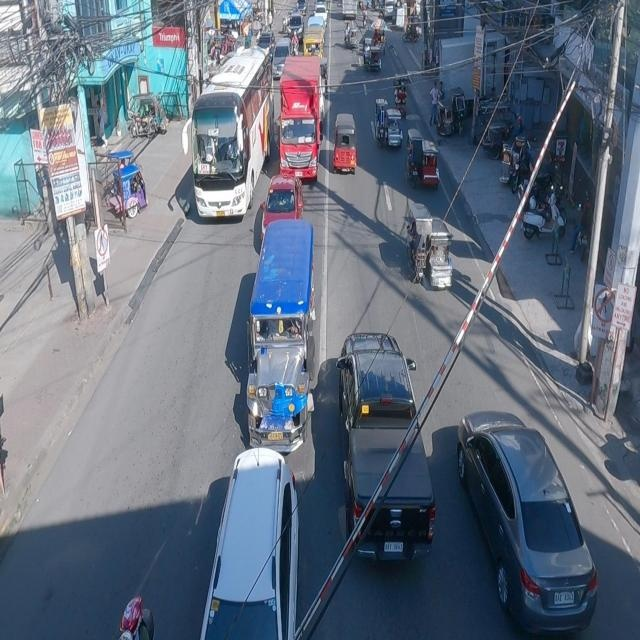Truck: (334, 327, 436, 551)
